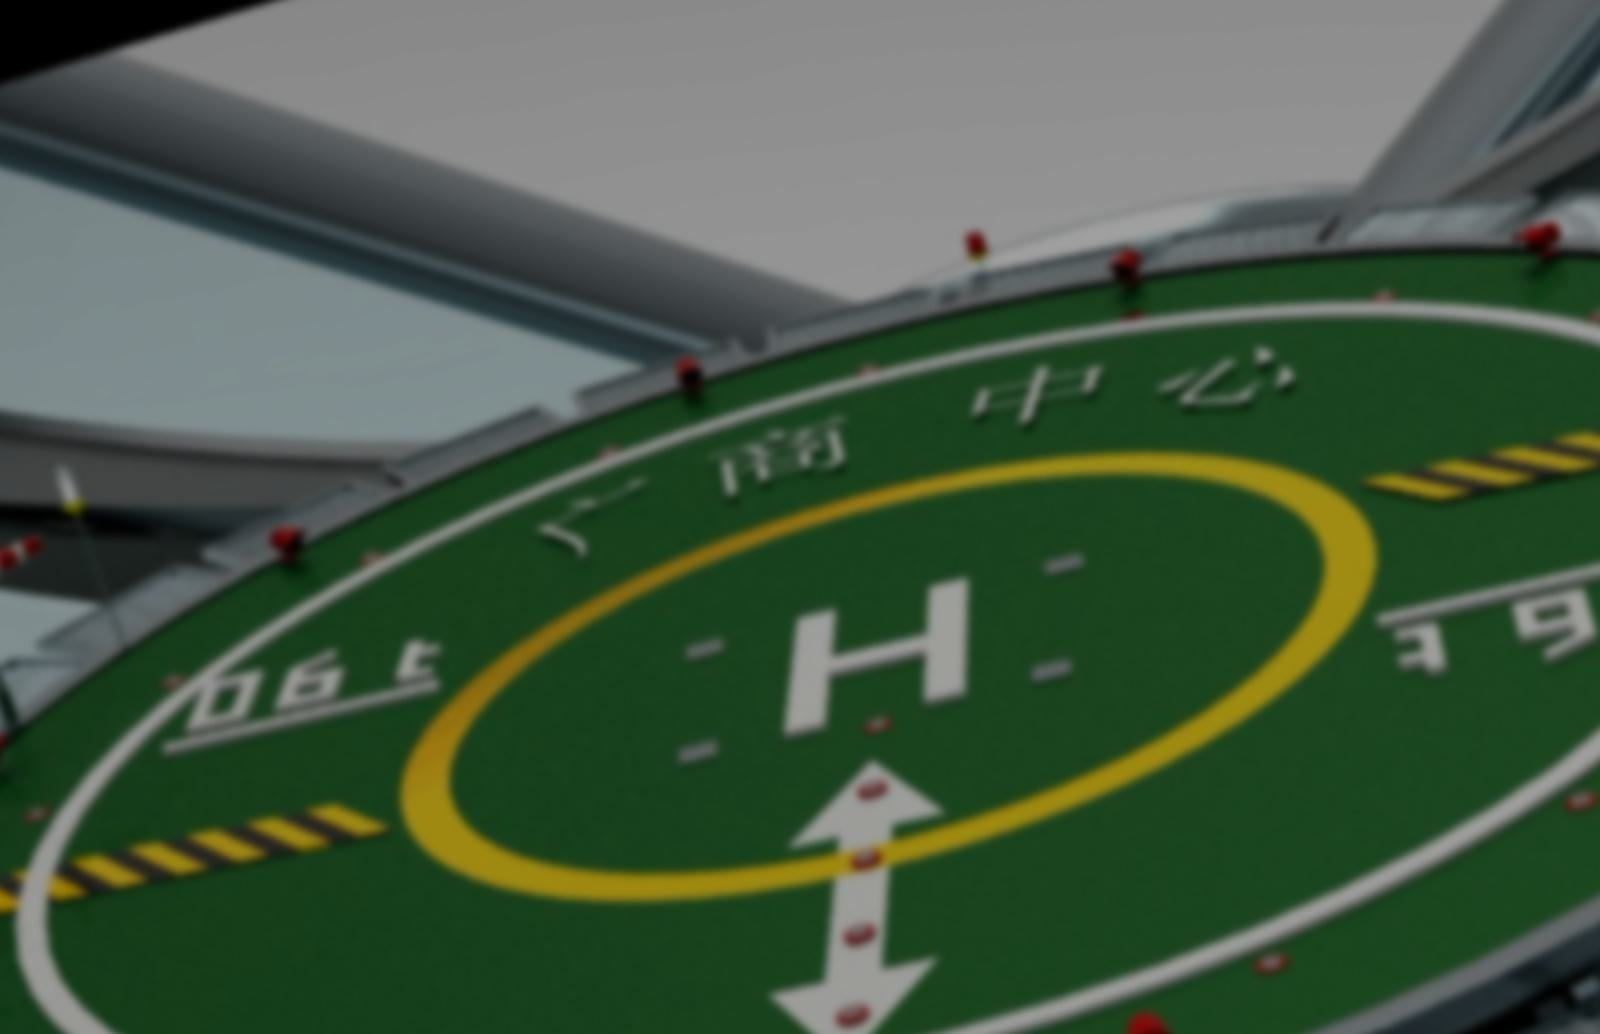Apron: (373, 418, 1416, 914)
